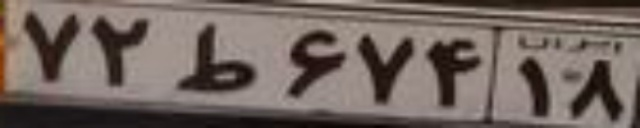1: (519, 57, 552, 116)
2: (92, 14, 151, 88)
4: (427, 37, 483, 106)
6: (279, 28, 346, 96)
7: (354, 31, 413, 104), (22, 11, 80, 82)
8: (569, 56, 621, 119)
taa: (175, 21, 256, 92)
